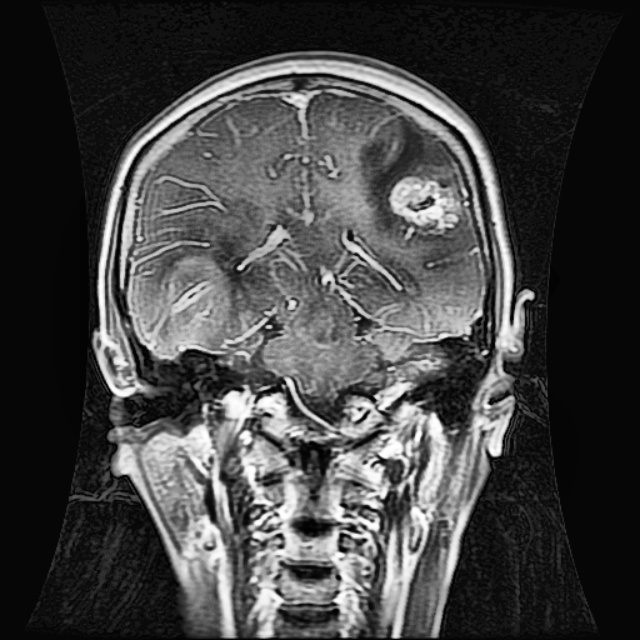Meningioma: (352, 120, 463, 230)
